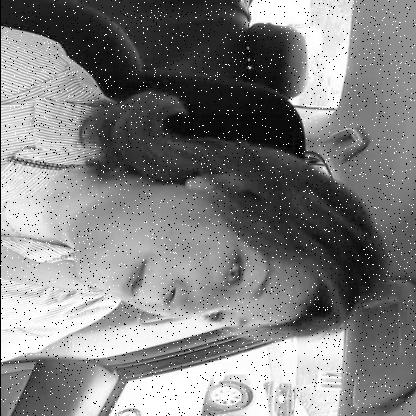seatbelt: (0, 133, 410, 331)
